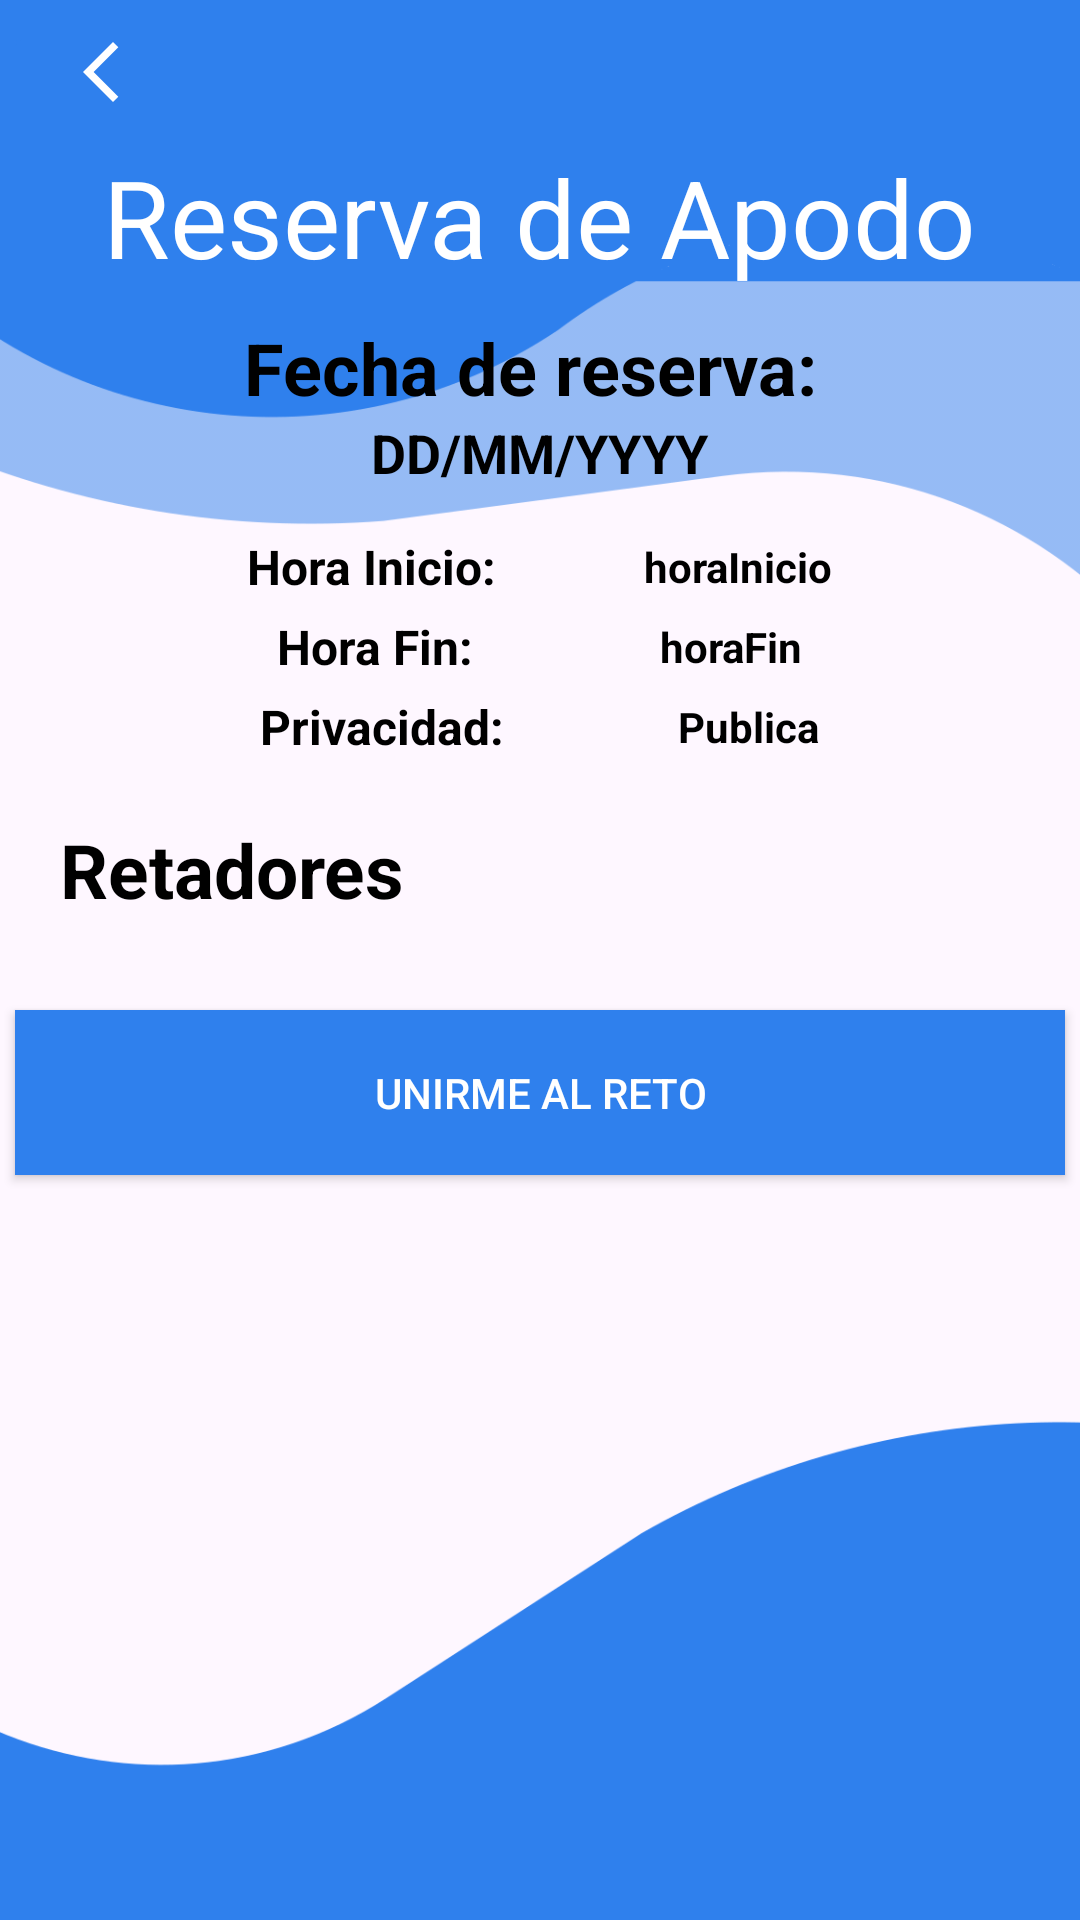

Icons on this 1080 × 1920 Android screen, each with its box as (x1=x1, y1=y1, x2=x2, y2=y2):
Go back: (x1=83, y1=42, x2=118, y2=102)
